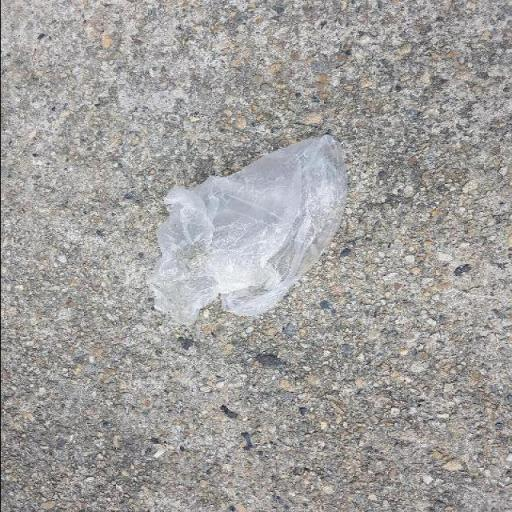plastic-bag: (146, 134, 348, 328)
